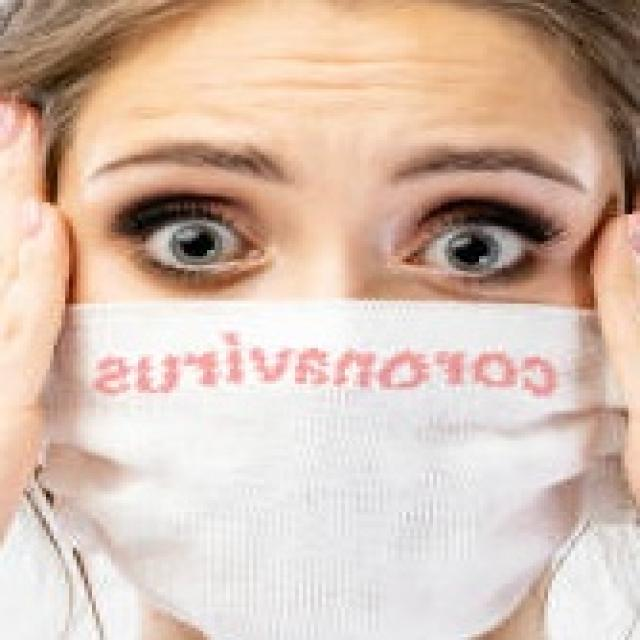Anxiety: (42, 2, 629, 637)
